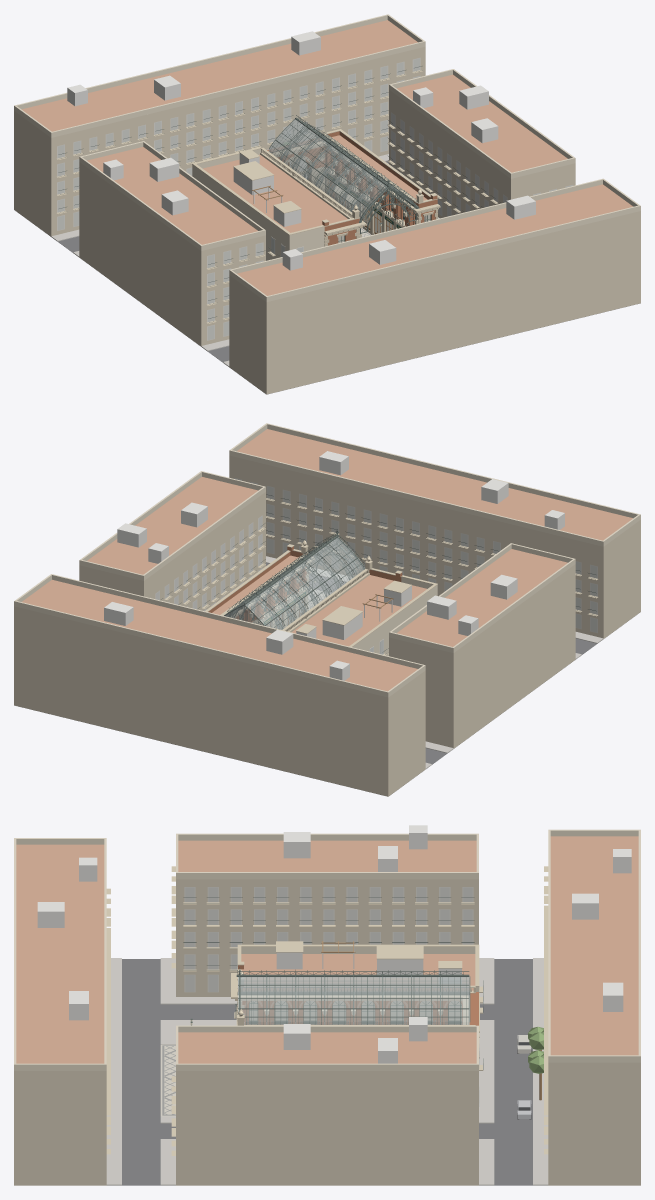
Rendered from clay-barcelona-passatge-clay-v006.glb.
3 views of the same model, one above another, from view 1: azimuth 30°, elevation 25°; view 2: azimuth 150°, elevation 25°; view 3: azimuth 270°, elevation 25° (orthographic). The views are drawn at different scales.
Parts seen in each view (by area): view 1: CLAY_STUCCO2, CLAY_TERRACOTTA, CLAY_STUCCO, CLAY_GLASS, CLAY_TRIM, CLAY_STONE, CLAY_WHITE, CLAY_IRON, CLAY_BRICK, CLAY_ASPHALT; view 2: CLAY_STUCCO2, CLAY_TERRACOTTA, CLAY_STUCCO, CLAY_GLASS, CLAY_TRIM, CLAY_WHITE, CLAY_STONE, CLAY_IRON, CLAY_BRICK, CLAY_ASPHALT, CLAY_CONCRETE; view 3: CLAY_STUCCO2, CLAY_TERRACOTTA, CLAY_ASPHALT, CLAY_GLASS, CLAY_STUCCO, CLAY_CONCRETE, CLAY_STONE, CLAY_WHITE, CLAY_TRIM, CLAY_IRON, CLAY_BRICK, CLAY_FRAME (+4 smaller).
Part boxes in pixels (x1,y1,x2,y2): CLAY_STUCCO2: (14, 46, 640, 394); CLAY_TERRACOTTA: (22, 20, 632, 295); CLAY_STUCCO: (14, 14, 640, 302); CLAY_GLASS: (58, 58, 570, 339); CLAY_TRIM: (57, 57, 573, 340); CLAY_STONE: (57, 70, 497, 324); CLAY_WHITE: (67, 31, 535, 270); CLAY_IRON: (58, 66, 500, 323); CLAY_BRICK: (267, 131, 437, 245); CLAY_ASPHALT: (19, 161, 640, 394); CLAY_STUCCO2: (14, 455, 640, 796); CLAY_TERRACOTTA: (22, 429, 632, 691); CLAY_STUCCO: (14, 423, 640, 697); CLAY_GLASS: (156, 479, 596, 654); CLAY_TRIM: (150, 478, 597, 654); CLAY_WHITE: (104, 451, 564, 680); CLAY_STONE: (164, 498, 597, 655); CLAY_IRON: (161, 494, 596, 654); CLAY_BRICK: (208, 546, 402, 622); CLAY_ASPHALT: (14, 563, 637, 795); CLAY_CONCRETE: (266, 556, 603, 768); CLAY_STUCCO2: (14, 879, 640, 1185); CLAY_TERRACOTTA: (16, 836, 638, 1063); CLAY_ASPHALT: (122, 959, 532, 1185); CLAY_GLASS: (185, 888, 479, 1106); CLAY_STUCCO: (14, 829, 640, 1070); CLAY_CONCRETE: (106, 958, 548, 1185); CLAY_STONE: (106, 866, 548, 1155); CLAY_WHITE: (37, 825, 631, 1063); CLAY_TRIM: (184, 887, 473, 992); CLAY_IRON: (183, 897, 483, 1069); CLAY_BRICK: (238, 965, 478, 1025); CLAY_FRAME: (249, 1001, 461, 1024).
Size of the model in its own units: 69.5 by 20 by 81.2.
